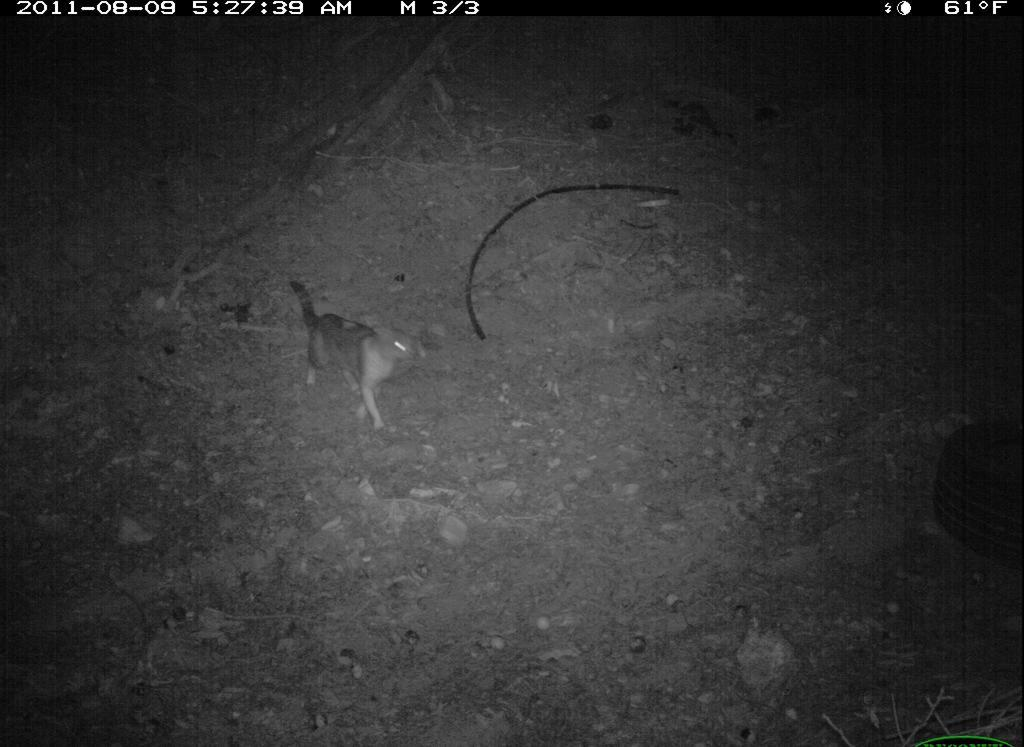cat: (283, 271, 431, 445)
